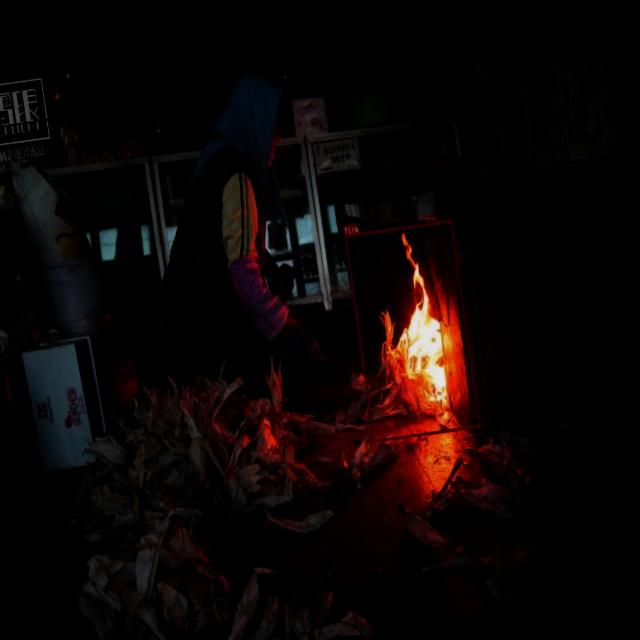fire: (344, 219, 481, 442)
